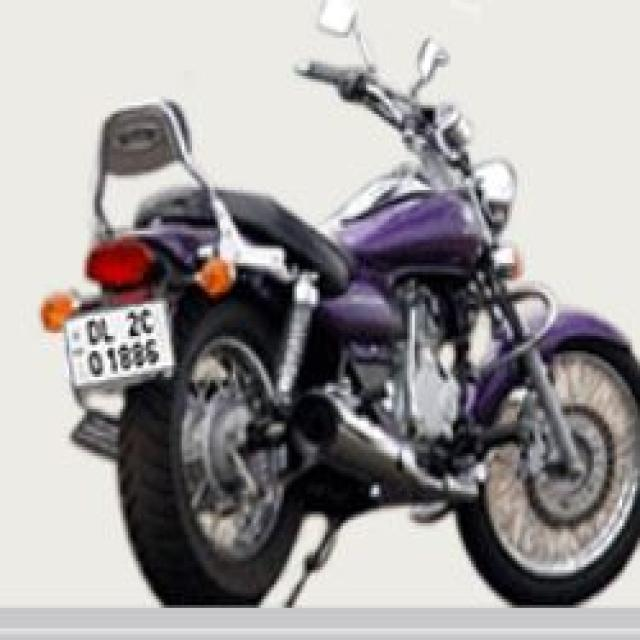license_plate: (62, 295, 174, 389)
